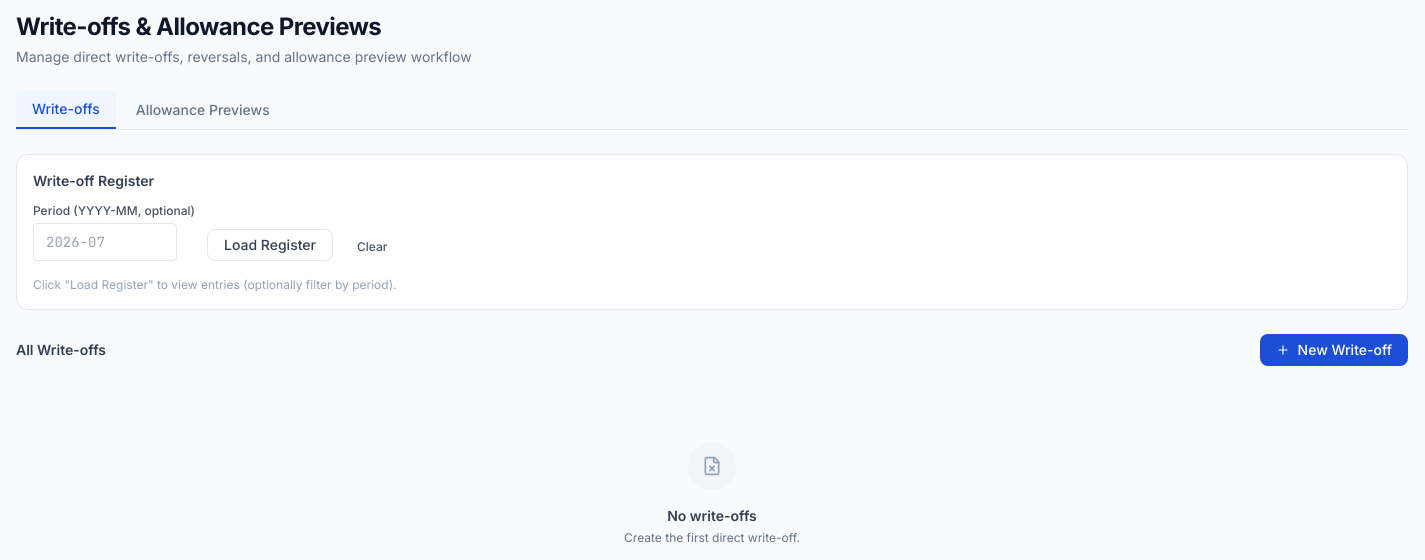
WriteOffsAndAllowances — allowances tab › shows allowance preview list
The image size is (1425, 560).
Click the button "Allowance Previews": (203, 110) [120, 91, 286, 129]
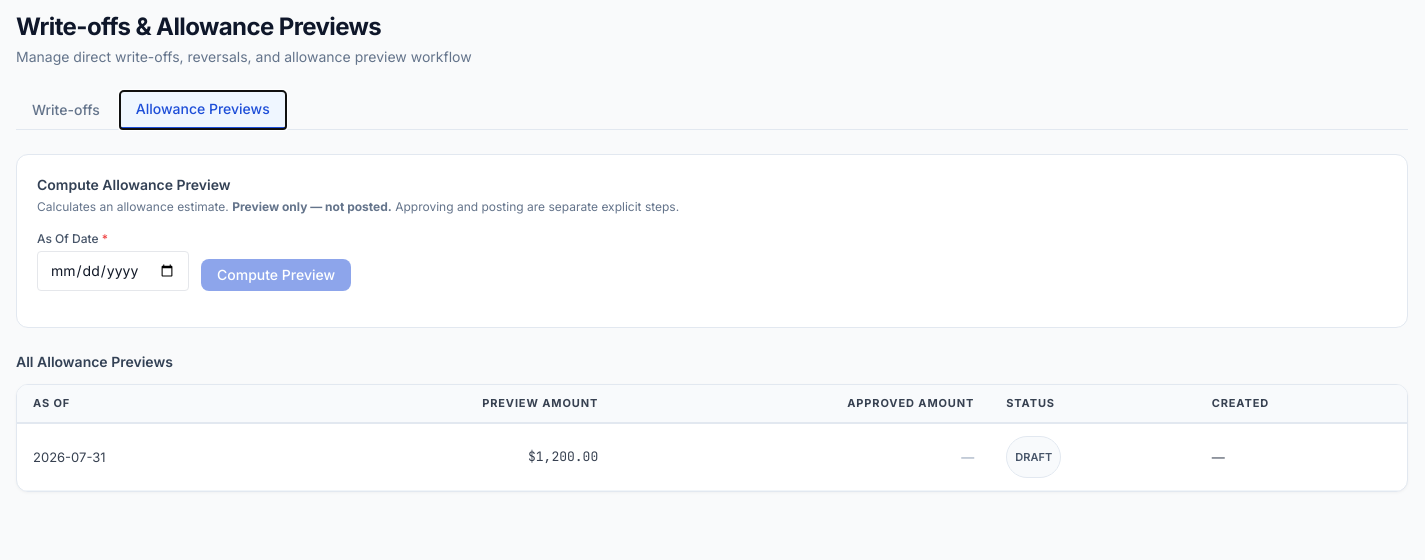
Expected: the text "2026-07-31" is shown, [17, 422, 264, 490]
